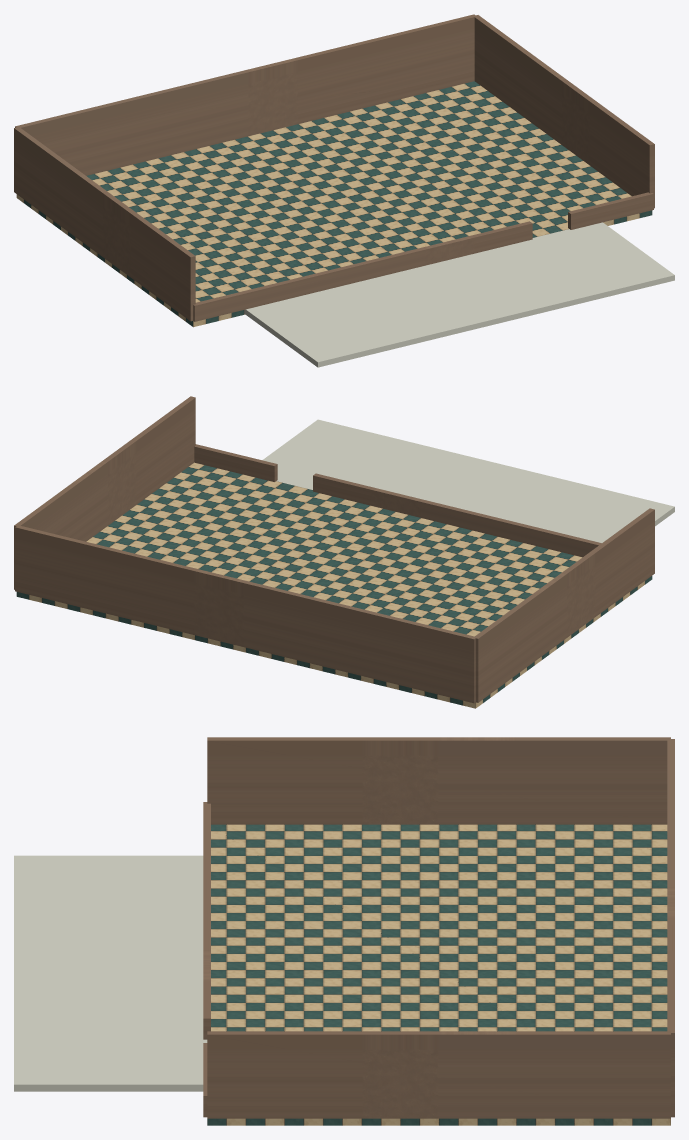
Rendered from bar_blockout_shell_material_variant.fbx.
3 views of the same model, one above another, from view 1: azimuth 30°, elevation 25°; view 2: azimuth 150°, elevation 25°; view 3: azimuth 270°, elevation 25° (orthographic). The views are drawn at different scales.
Visible parts, largest first — view 1: InteriorFloor, BackWall, Sidewalk, SideWall, SideWall.001, FrontWall_Left, FrontWall_Right; view 2: InteriorFloor, BackWall, Sidewalk, SideWall, SideWall.001, FrontWall_Left, FrontWall_Right; view 3: InteriorFloor, Sidewalk, SideWall.001, SideWall, BackWall, FrontWall_Left.
Part boxes in pixels (x1,y1,x2,y2): InteriorFloor: [16, 81, 652, 327]; BackWall: [15, 14, 476, 175]; Sidewalk: [244, 222, 674, 367]; SideWall: [14, 127, 195, 321]; SideWall.001: [473, 15, 654, 208]; FrontWall_Left: [193, 221, 532, 321]; FrontWall_Right: [568, 192, 653, 229]; InteriorFloor: [16, 462, 652, 708]; BackWall: [15, 525, 476, 703]; Sidewalk: [262, 419, 674, 542]; SideWall: [475, 508, 654, 702]; SideWall.001: [14, 396, 195, 589]; FrontWall_Left: [313, 473, 601, 557]; FrontWall_Right: [194, 444, 277, 481]; InteriorFloor: [207, 824, 670, 1125]; Sidewalk: [14, 855, 207, 1091]; SideWall.001: [207, 1031, 670, 1118]; SideWall: [207, 737, 670, 824]; BackWall: [667, 739, 674, 1117]; FrontWall_Left: [203, 802, 210, 1039].
Bounding box in the file's own units: 18.2 × 2.64 × 17.1.
3 materials, 2 textured.
